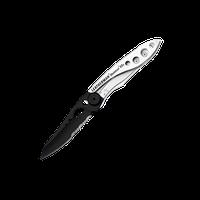knife: (34, 35, 165, 165)
